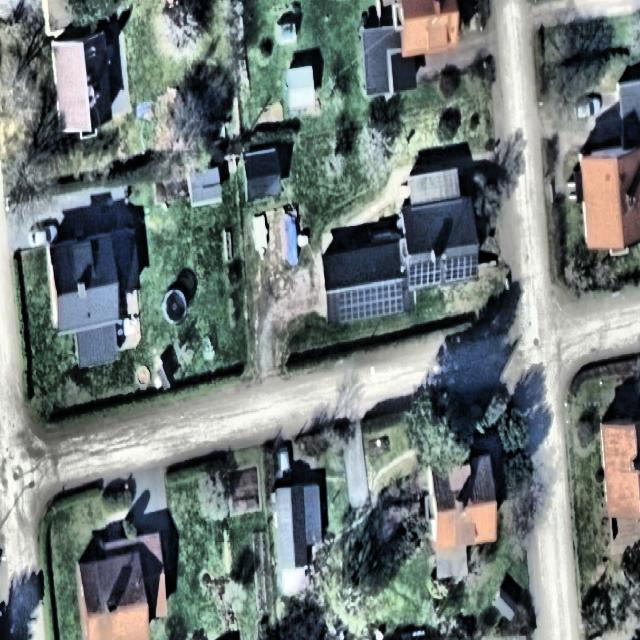roof_pv: (334, 282, 405, 322), (446, 249, 481, 284), (409, 258, 442, 288)
